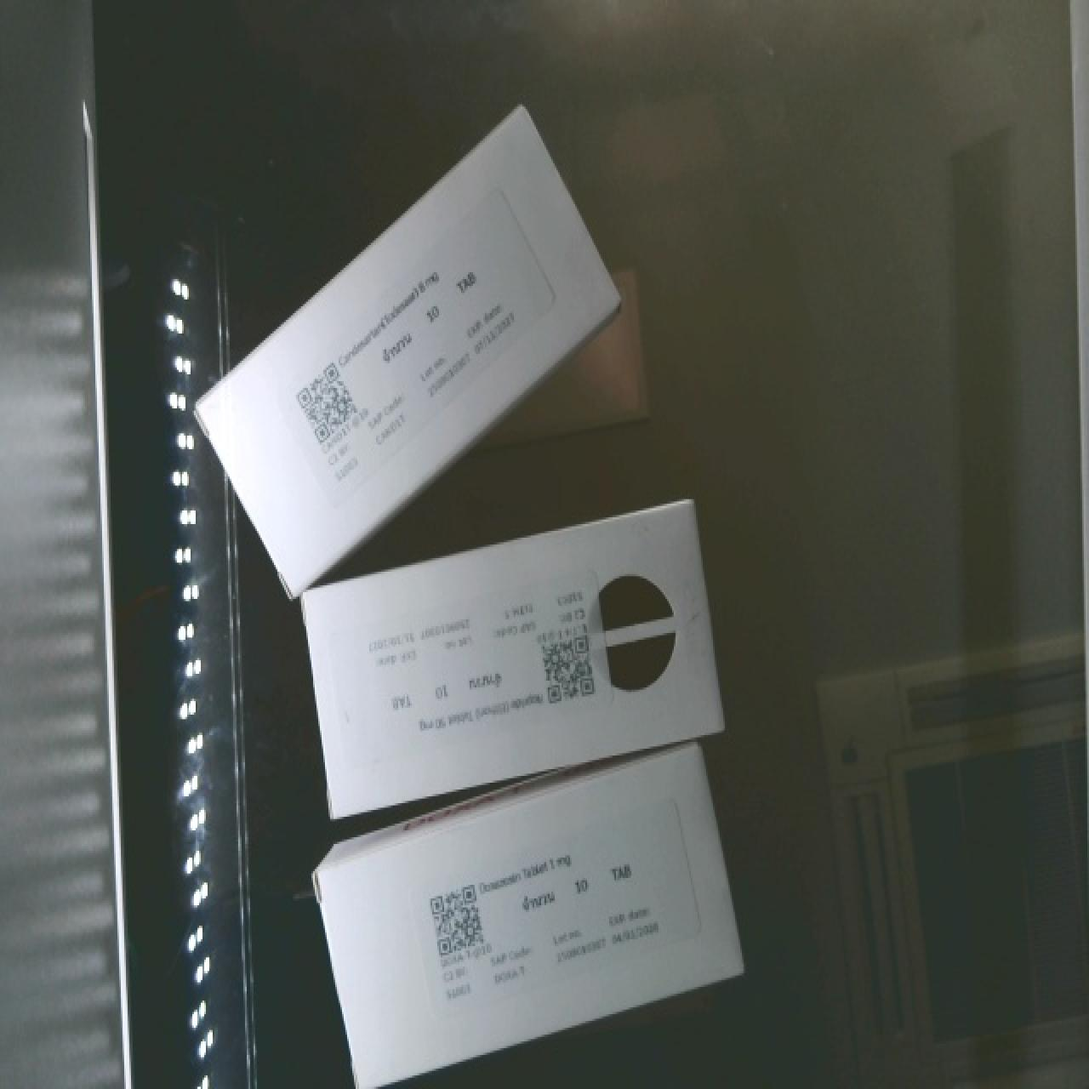qr_code: (275, 343, 383, 464), (408, 865, 507, 989), (521, 612, 612, 717)
